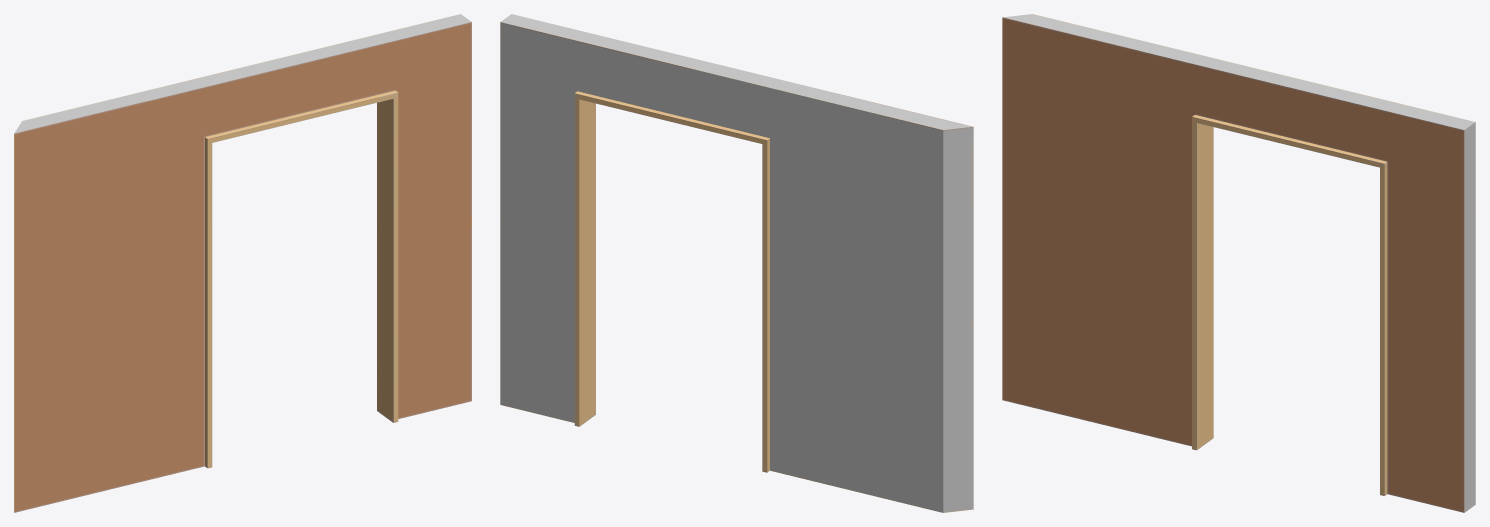
Rendered from lwall.gltf.
The picture shows the model from 3 angles, left to right: view 1: azimuth 30°, elevation 25°; view 2: azimuth 150°, elevation 25°; view 3: azimuth 330°, elevation 25°; orthographic projection.
Parts seen in each view (by area): view 1: LWall; view 2: LWall; view 3: LWall.
Boxes of the visible parts, x1,y1,x2,y2 form: LWall: [14, 14, 471, 512]; LWall: [500, 14, 973, 512]; LWall: [1002, 14, 1475, 512].
Bounding box in the file's own units: 6 × 4.75 × 0.375.
Materials: 1 (1 with a texture image).
